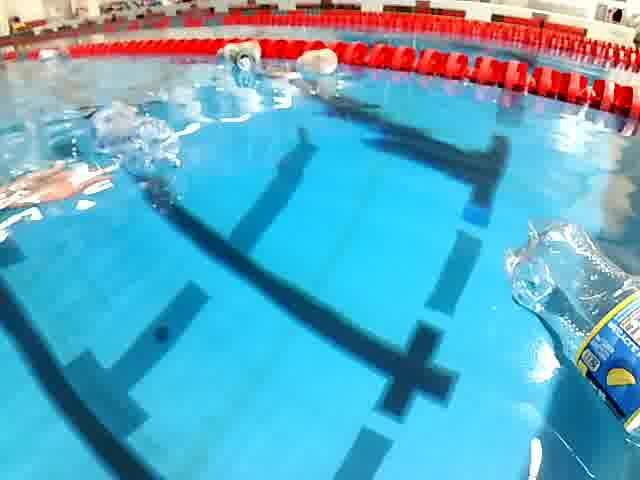Bottle: (491, 213, 640, 465), (79, 104, 187, 181), (293, 47, 341, 77)
Can: (232, 50, 260, 76)
